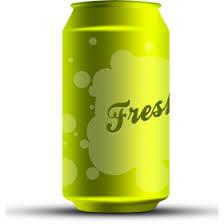Aluminum can: (176, 0, 224, 214)
